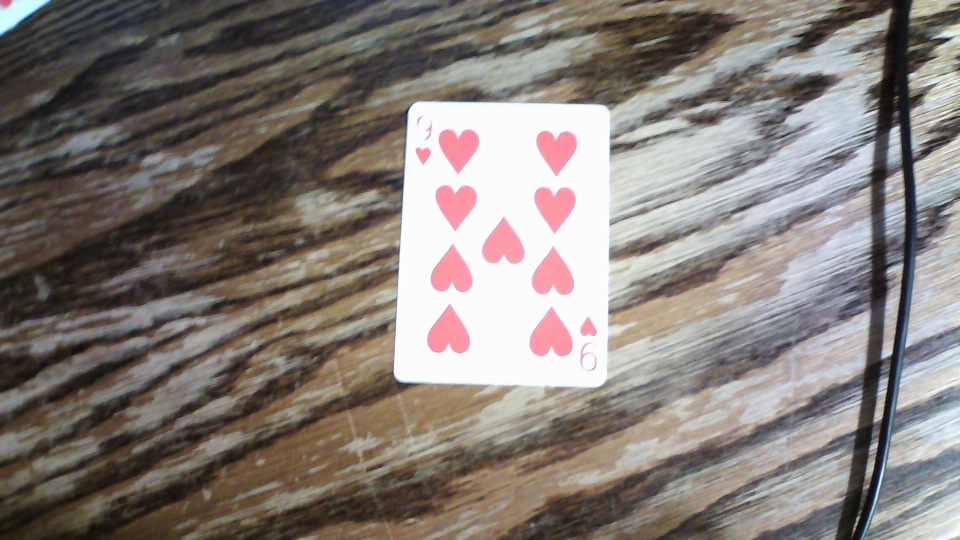nine: (391, 98, 614, 388)
